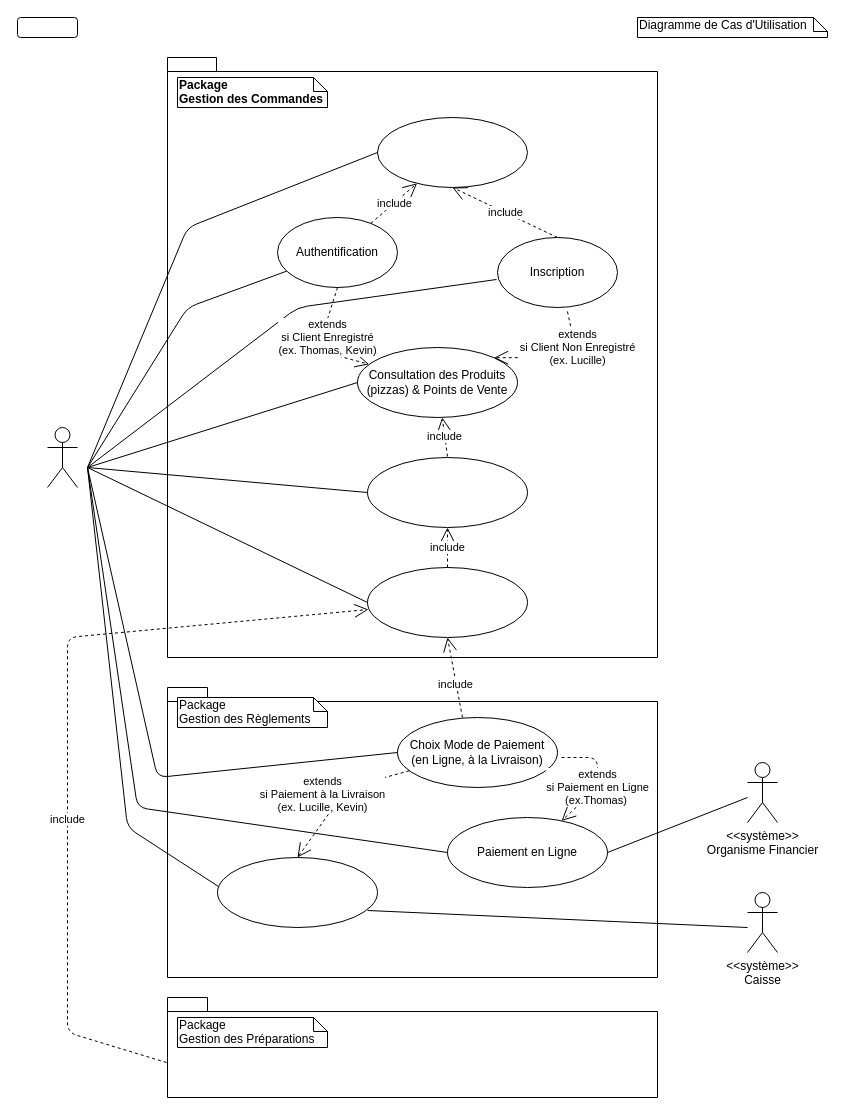
This 845x1115 diagram has some shape labels left out. The shapes that lost their labels are listed below. From the top down, each one's centre as x and y in pixels, then its label:
At point 47,27: "OC'Pizza".
At point 452,152: "Connection au Système".
At point 62,457: "Client".
At point 447,492: "Choix des Produits (Constitution du Panier)".
At point 447,602: "Validation Commande (Acceptation du Panier)".
At point 297,892: "Paiement à la Livraison".
